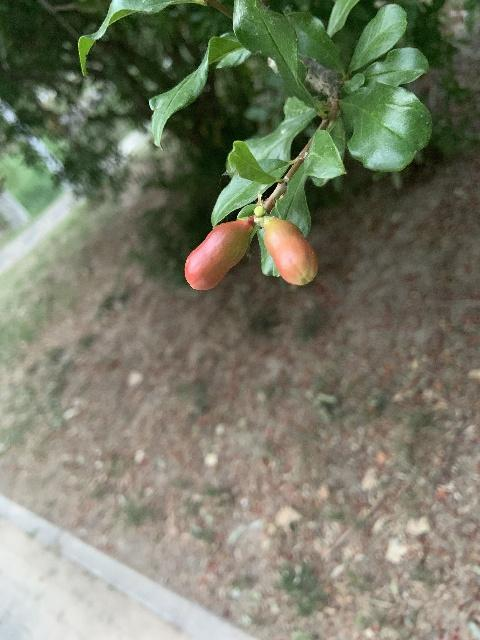bud: (184, 217, 253, 292), (263, 217, 317, 286)
